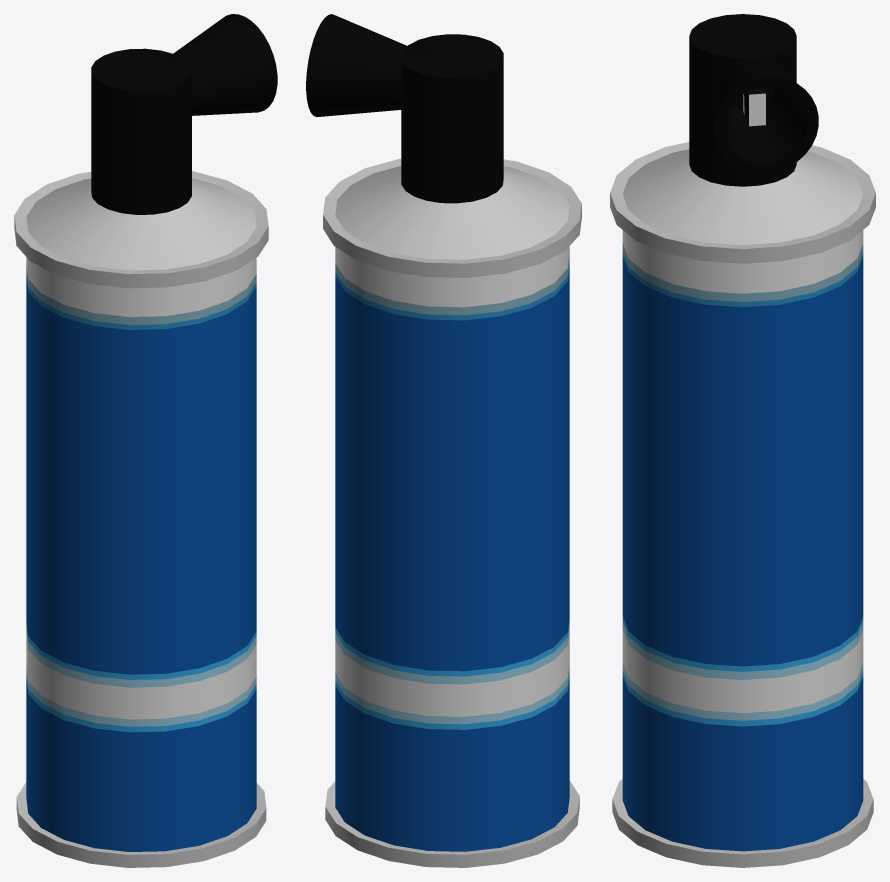
File: Fly Spray.fbx
3 views of the same model, side by side, from view 1: azimuth 30°, elevation 25°; view 2: azimuth 150°, elevation 25°; view 3: azimuth 270°, elevation 25° (orthographic). The views are drawn at different scales.
Parts seen in each view (by area): view 1: pCylinder1, pPipe1; view 2: pCylinder1, pPipe1; view 3: pCylinder1, pPipe1.
Boxes of the visible parts, x1,y1,x2,y2 form: pCylinder1: (14,48,268,867); pPipe1: (173,14,277,115); pCylinder1: (323,34,581,867); pPipe1: (306,14,406,116); pCylinder1: (610,14,875,867); pPipe1: (714,58,818,173).
Size of the model in its own units: 0.4304 by 1.35 by 0.4083.
